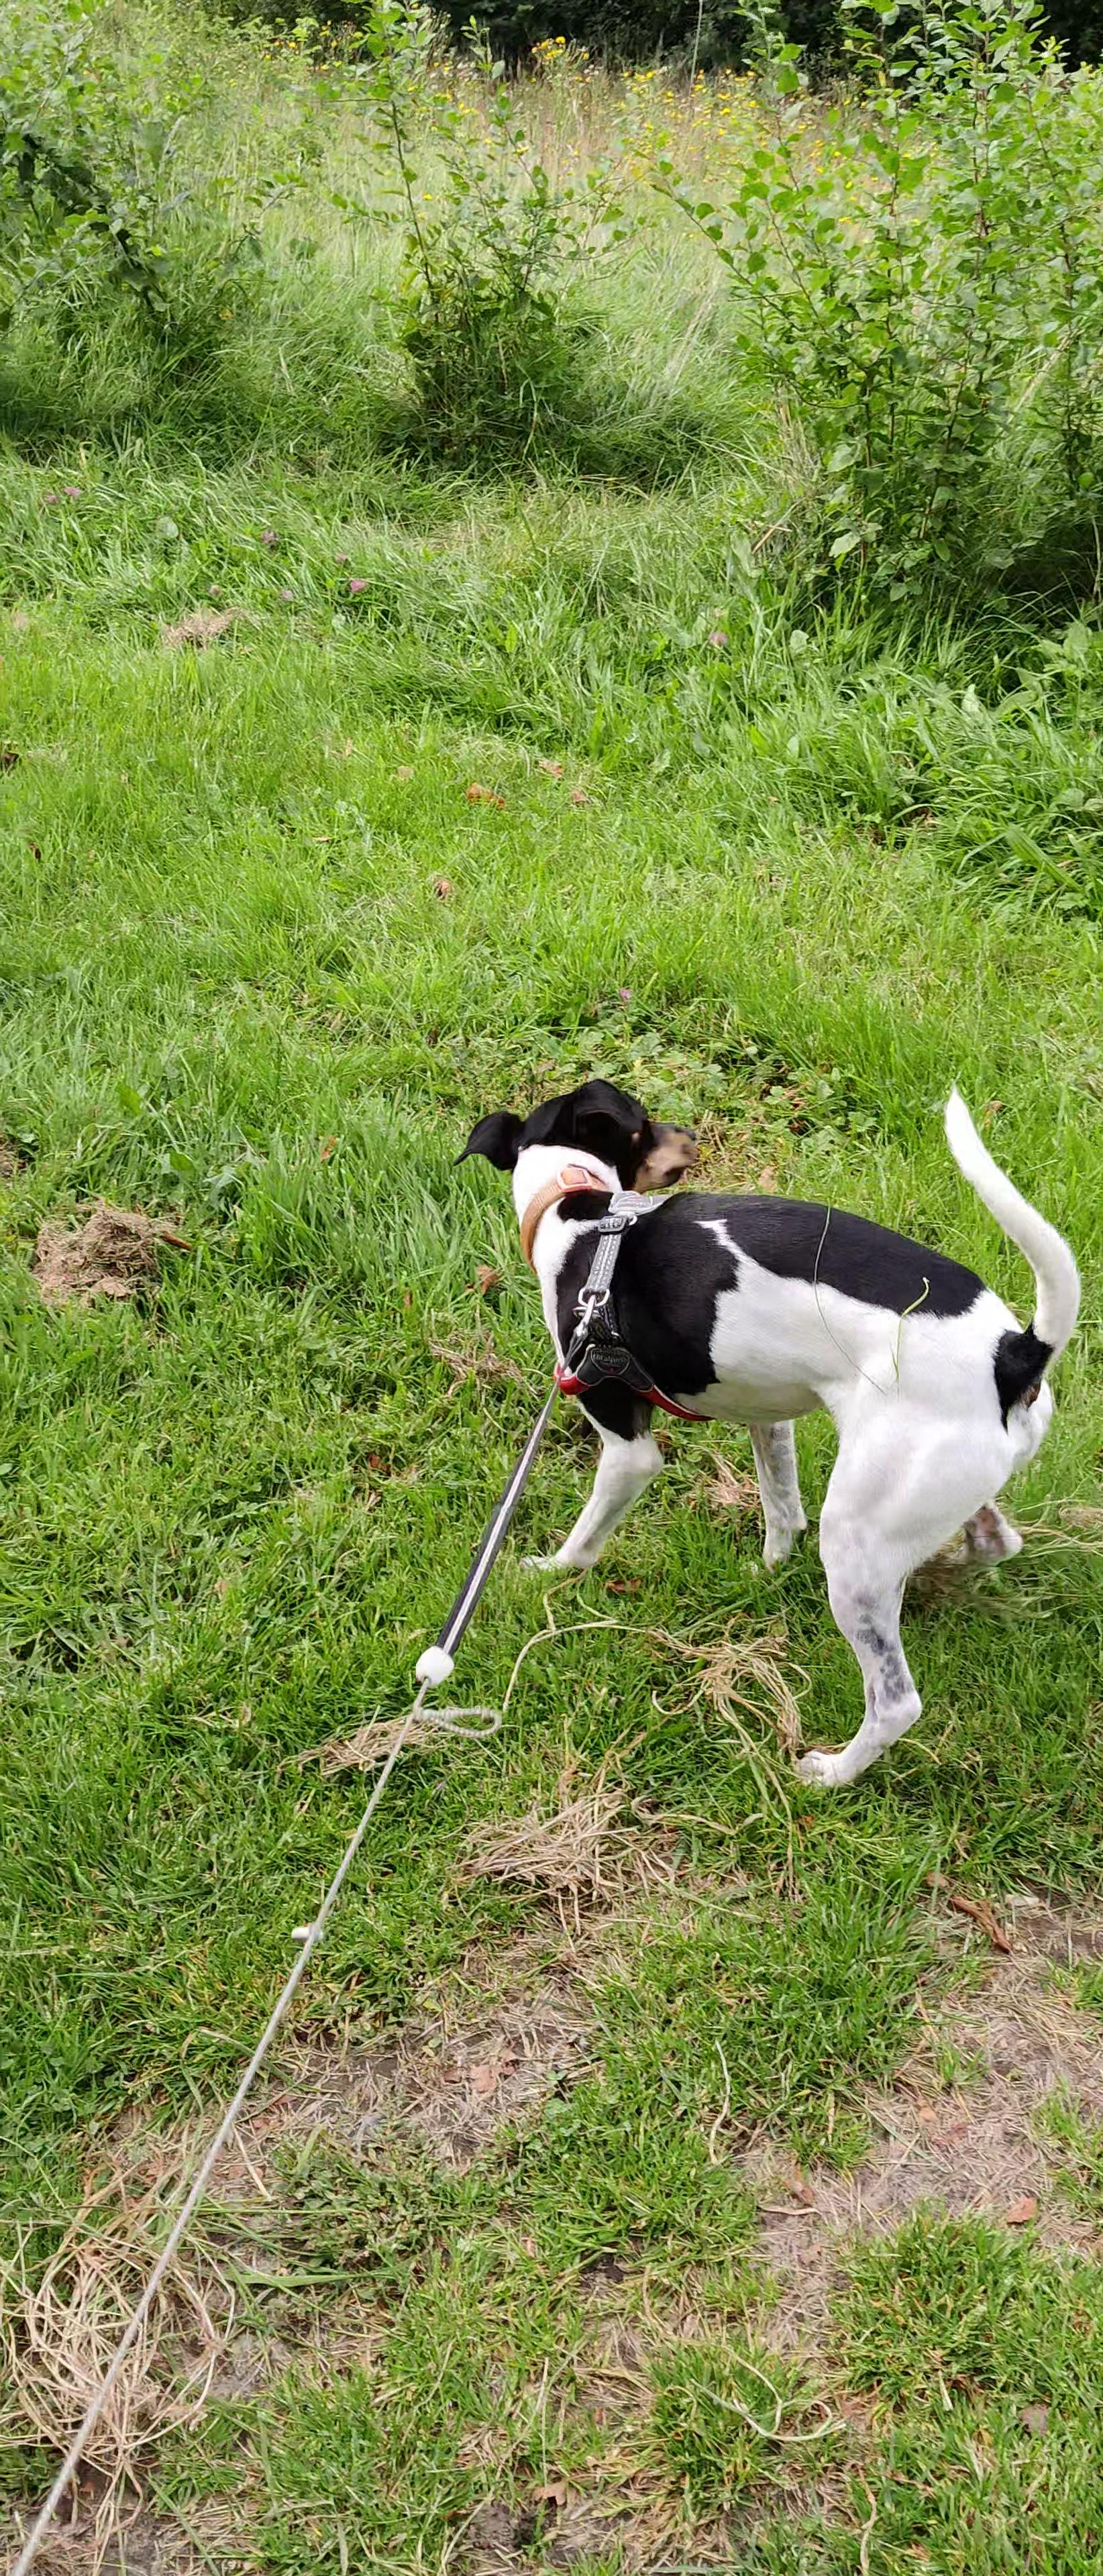Dog: (445, 1069, 1091, 1801)
